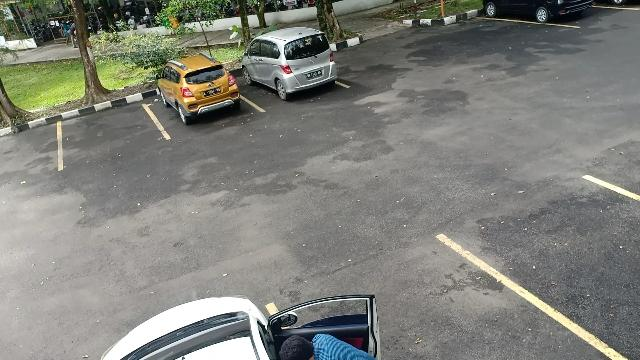empty: (56, 103, 160, 158)
occupied: (240, 55, 346, 112), (151, 78, 243, 138)
